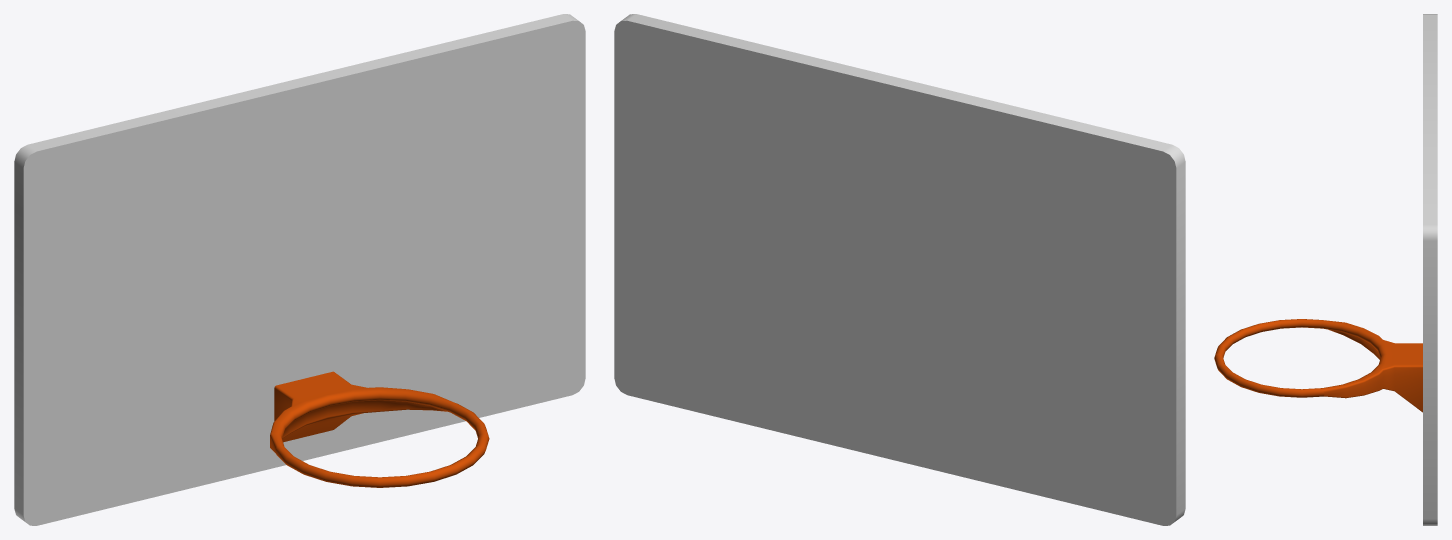
File: BallHoop.fbx
3 views of the same model, side by side, from view 1: azimuth 30°, elevation 25°; view 2: azimuth 150°, elevation 25°; view 3: azimuth 270°, elevation 25° (orthographic). The views are drawn at different scales.
Parts seen in each view (by area): view 1: Backboard, Hoop; view 2: Backboard; view 3: Backboard, Hoop.
Part boxes in pixels (x1=…): Backboard: x1=14, y1=14, x2=585, y2=525; Hoop: x1=270, y1=371, x2=489, y2=487; Backboard: x1=614, y1=14, x2=1185, y2=525; Backboard: x1=1423, y1=14, x2=1437, y2=525; Hoop: x1=1214, y1=319, x2=1422, y2=412.
Size of the model in its own units: 580 by 369 by 249.
